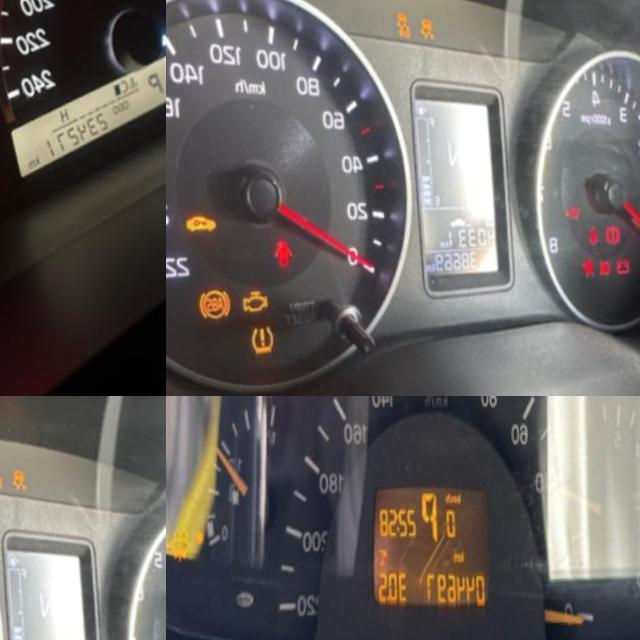Doors: (267, 237, 298, 274)
security: (178, 206, 219, 245)
